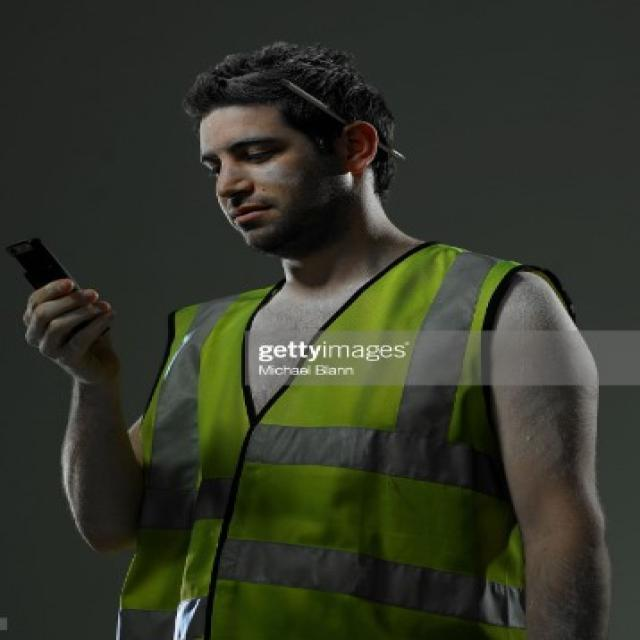safety_helmet: (117, 253, 554, 640)
